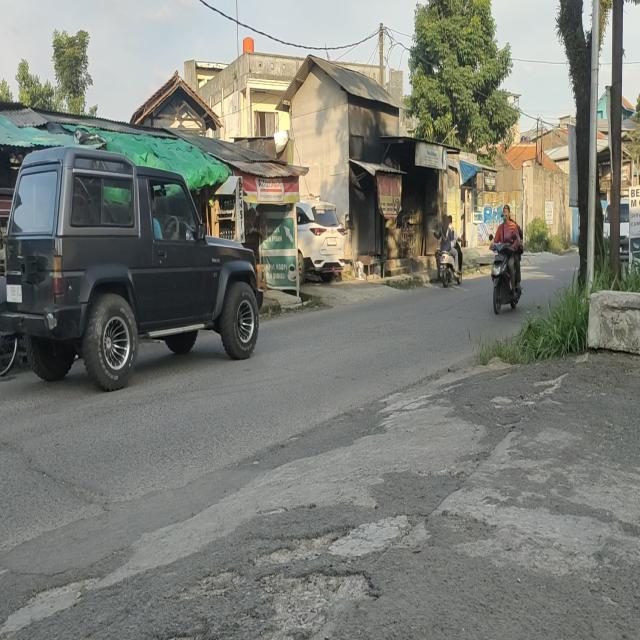no-helmet: (503, 203, 511, 222), (442, 215, 449, 228), (448, 214, 454, 228)
